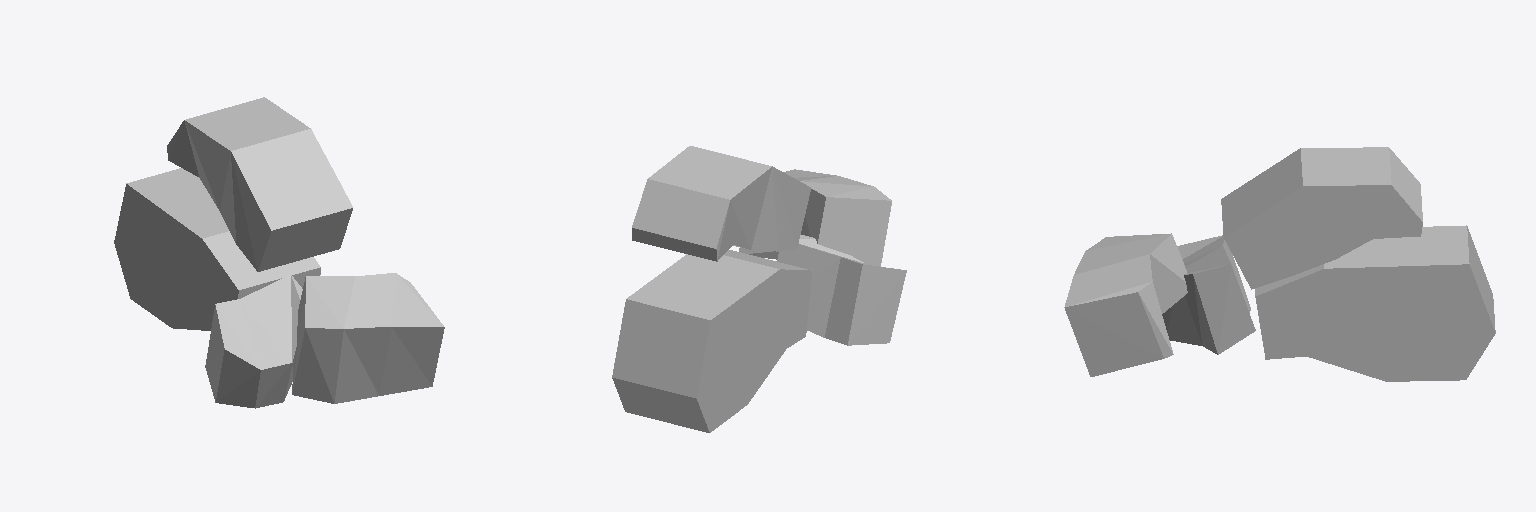
Rendered from cheville_right.obj.
The picture shows the model from 3 angles: view 1: azimuth 30°, elevation 25°; view 2: azimuth 150°, elevation 25°; view 3: azimuth 270°, elevation 25°; orthographic projection.
Visible parts, largest first — view 1: R_FOOT01_R_FOOT01_WHITE_BONE; view 2: R_FOOT01_R_FOOT01_WHITE_BONE; view 3: R_FOOT01_R_FOOT01_WHITE_BONE.
Part boxes in pixels (x1,y1,x2,y2): R_FOOT01_R_FOOT01_WHITE_BONE: (114,97,444,408); R_FOOT01_R_FOOT01_WHITE_BONE: (612,146,906,432); R_FOOT01_R_FOOT01_WHITE_BONE: (1064,147,1495,381).
Size of the model in its own units: 3.08 by 3.54 by 6.75.